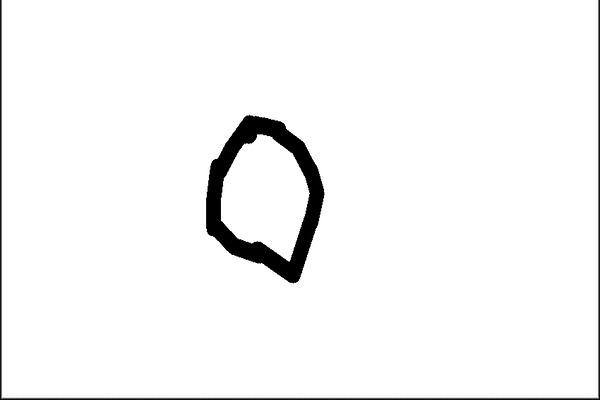O: (164, 100, 336, 289)
